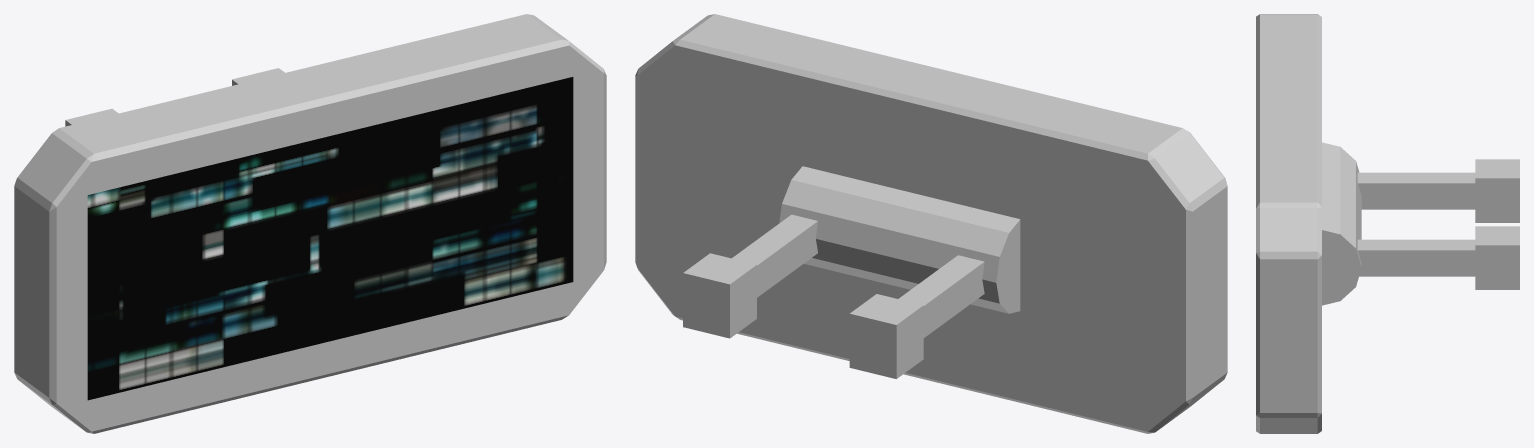
Rendered from light_09.fbx.
The picture shows the model from 3 angles, left to right: view 1: azimuth 30°, elevation 25°; view 2: azimuth 150°, elevation 25°; view 3: azimuth 270°, elevation 25°; orthographic projection. The views are drawn at different scales.
Visible parts, largest first — view 1: Cube.447, Cube.440, Cube.439; view 2: Cube.440, Cube.439; view 3: Cube.440, Cube.439.
Boxes of the visible parts, <box> form: Cube.447: <box>87,77,573,400</box>; Cube.440: <box>14,14,606,433</box>; Cube.439: <box>65,68,284,126</box>; Cube.440: <box>635,14,1227,433</box>; Cube.439: <box>683,166,1020,378</box>; Cube.440: <box>1256,14,1321,433</box>; Cube.439: <box>1322,142,1519,305</box>.
Size of the model in its own units: 1.02 by 0.4919 by 0.5092.
